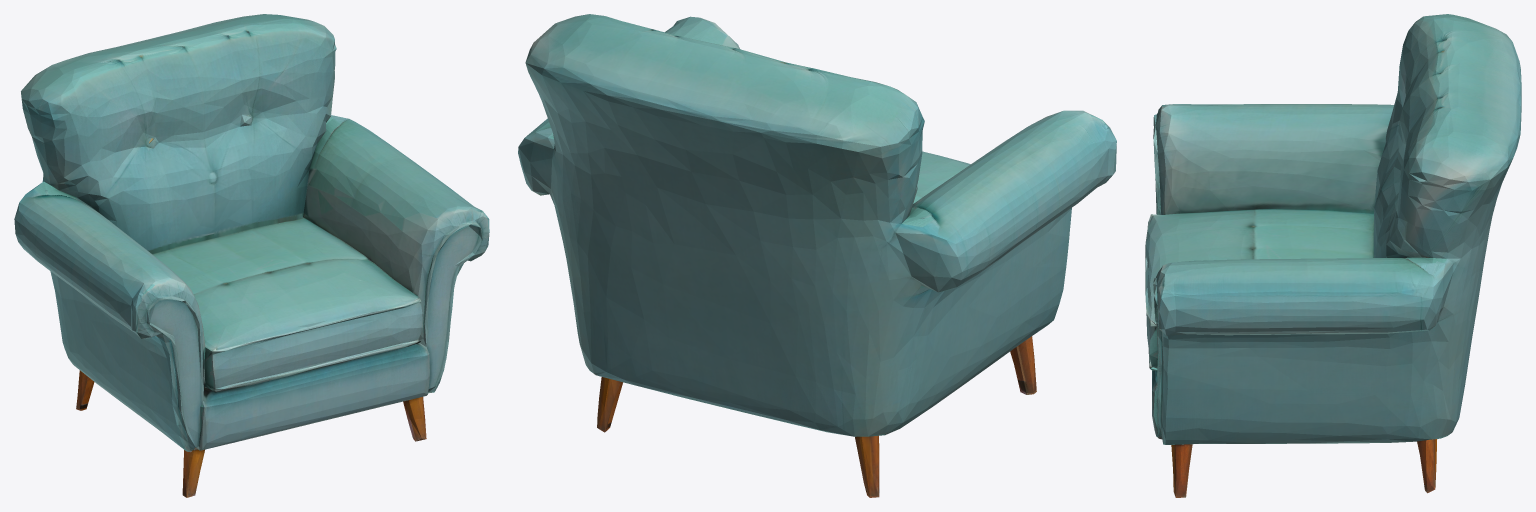
The model's file is 1950s_sofa_chair_mi_0401222853_texture.fbx.
3 views of the same model, side by side, from view 1: azimuth 30°, elevation 25°; view 2: azimuth 150°, elevation 25°; view 3: azimuth 270°, elevation 25° (orthographic). The views are drawn at different scales.
Visible parts, largest first — view 1: temp; view 2: temp; view 3: temp.
Part boxes in pixels (box(x1,y1,x2,y2)): temp: box(14, 14, 489, 497); temp: box(518, 14, 1116, 497); temp: box(1145, 14, 1521, 497).
Size of the model in its own units: 200 by 179 by 169.
1 material, 1 textured.
